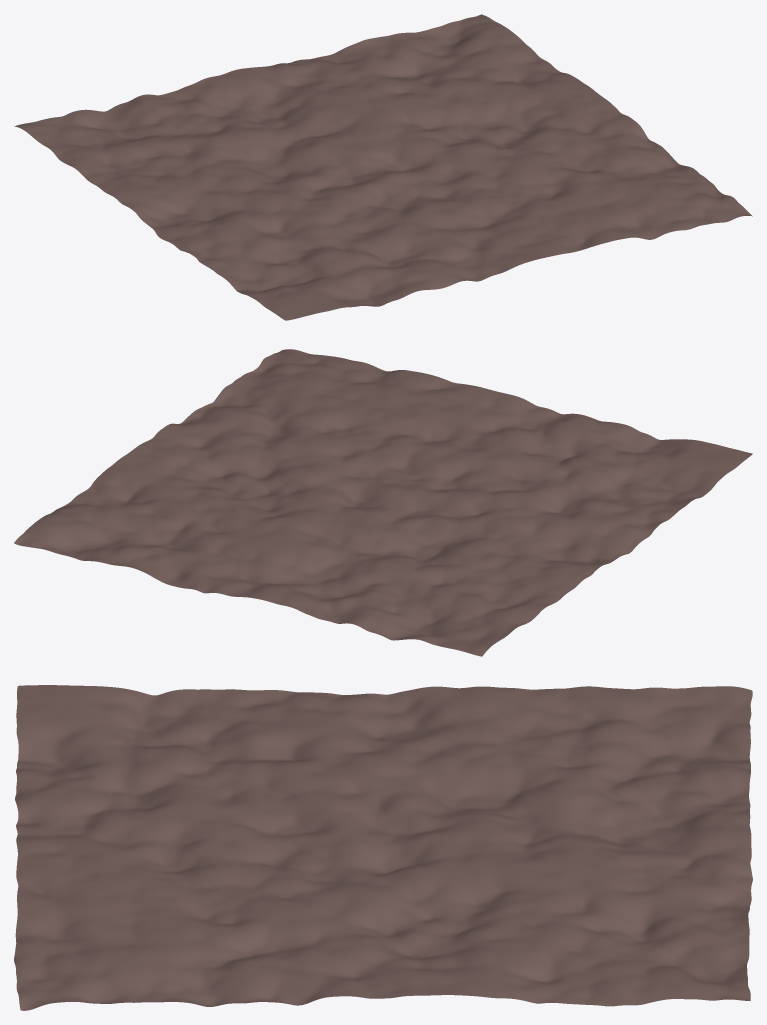
Rendered from ground.glb.
3 views of the same model, one above another, from view 1: azimuth 30°, elevation 25°; view 2: azimuth 150°, elevation 25°; view 3: azimuth 270°, elevation 25° (orthographic). The views are drawn at different scales.
Parts seen in each view (by area): view 1: GEO-ground; view 2: GEO-ground; view 3: GEO-ground.
Part boxes in pixels (left/top/right/bottom): GEO-ground: left=14, top=14, right=752, bottom=320; GEO-ground: left=14, top=349, right=752, bottom=656; GEO-ground: left=14, top=685, right=752, bottom=1010.
Bounding box in the file's own units: 6.52 × 0.1707 × 6.52.
